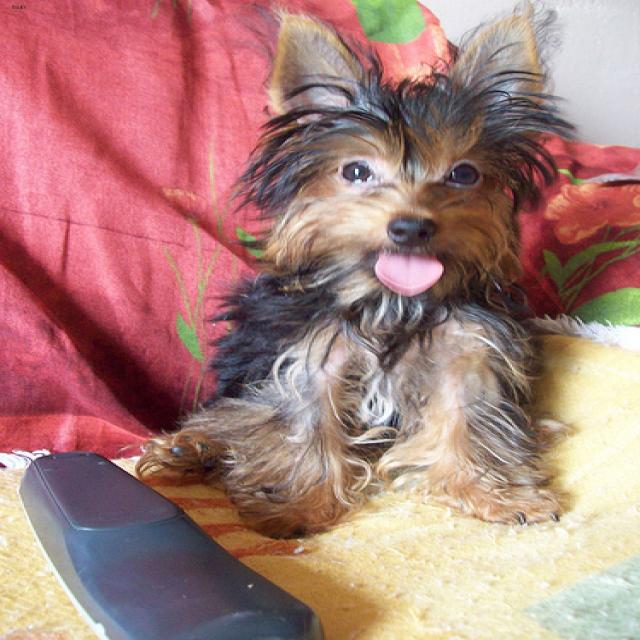dog-yorkshire_terrier: (126, 1, 582, 558)
